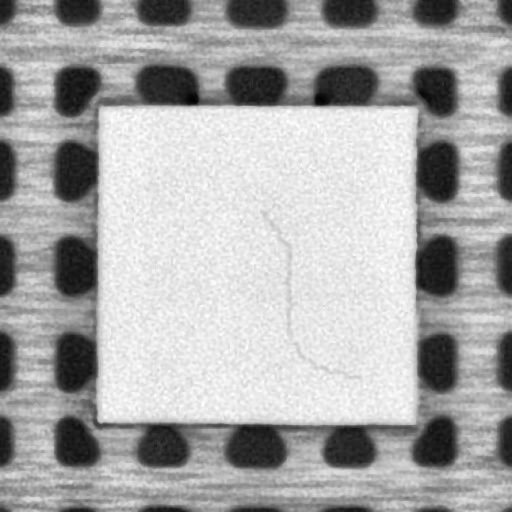DIE_CRACK: (256, 207, 347, 374)
